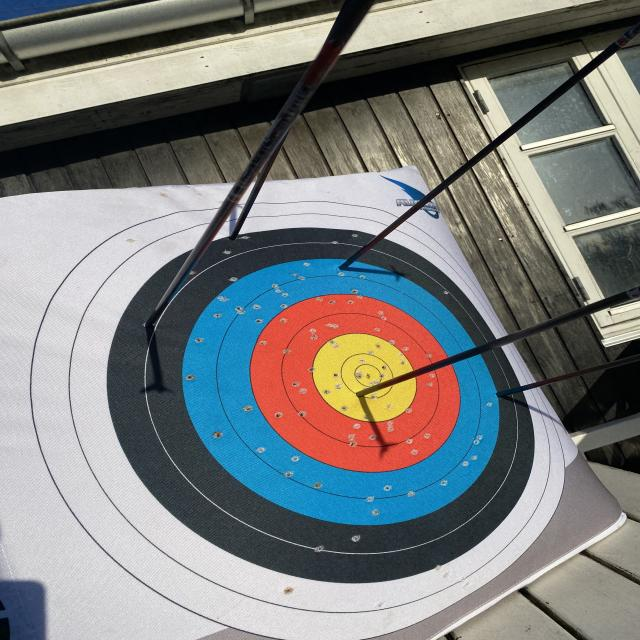Arrow_Black: (134, 312, 172, 335), (490, 378, 517, 406), (223, 227, 248, 252)
Arrow_Blue: (327, 258, 360, 282)
Arrow_Yellow: (342, 384, 366, 406)
